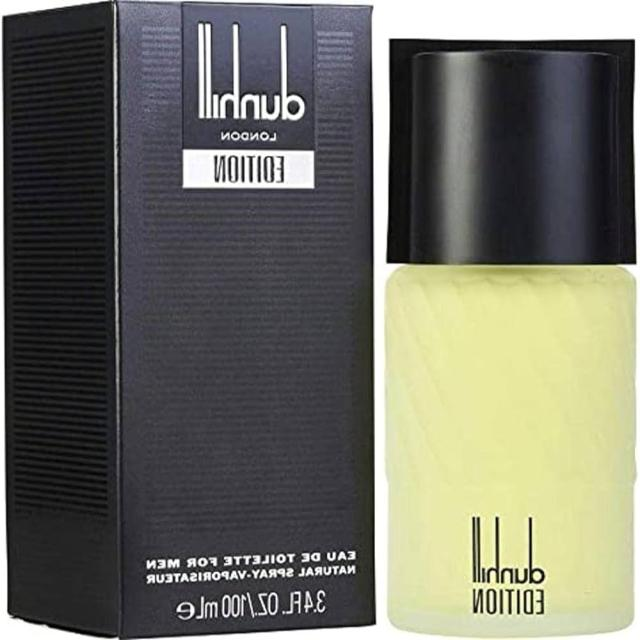dunhill: (378, 3, 640, 640)
